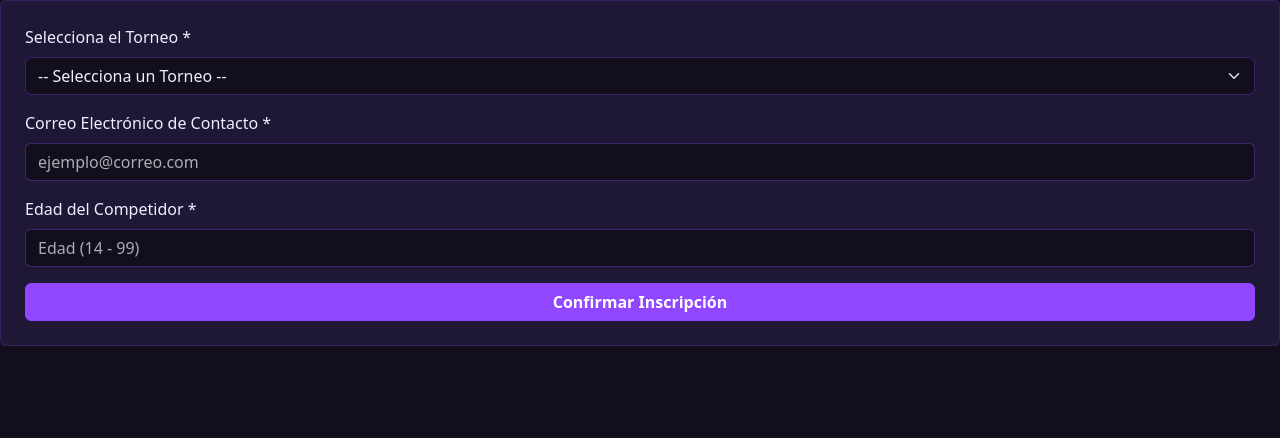
Test case: FormularioInscripcion › muestra error de edad fuera de rango
Type "10" into the number field labelled "Edad del Competidor *" at (640, 248), box [25,229,1255,267]
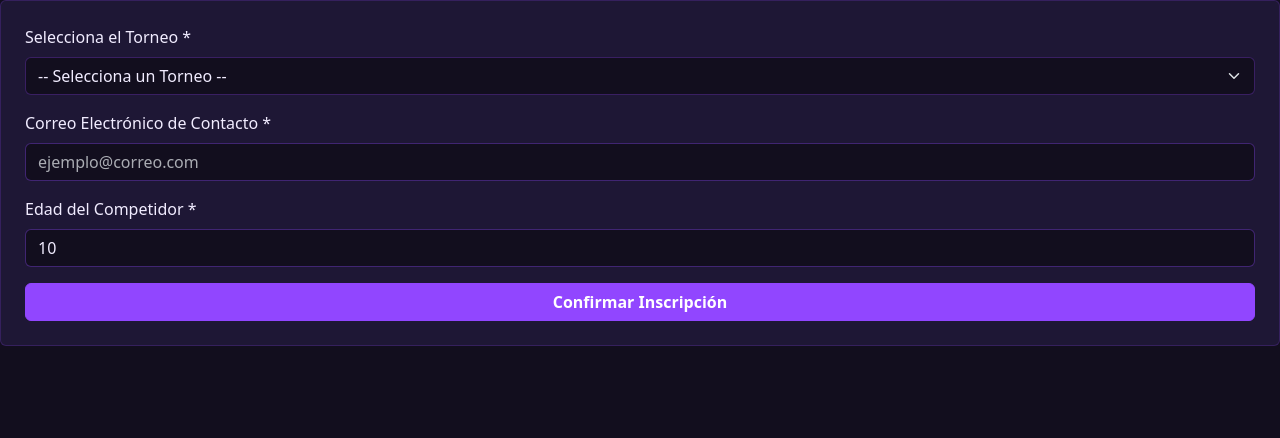
Click the button "Confirmar Inscripción" at (640, 302), box [25,283,1255,321]
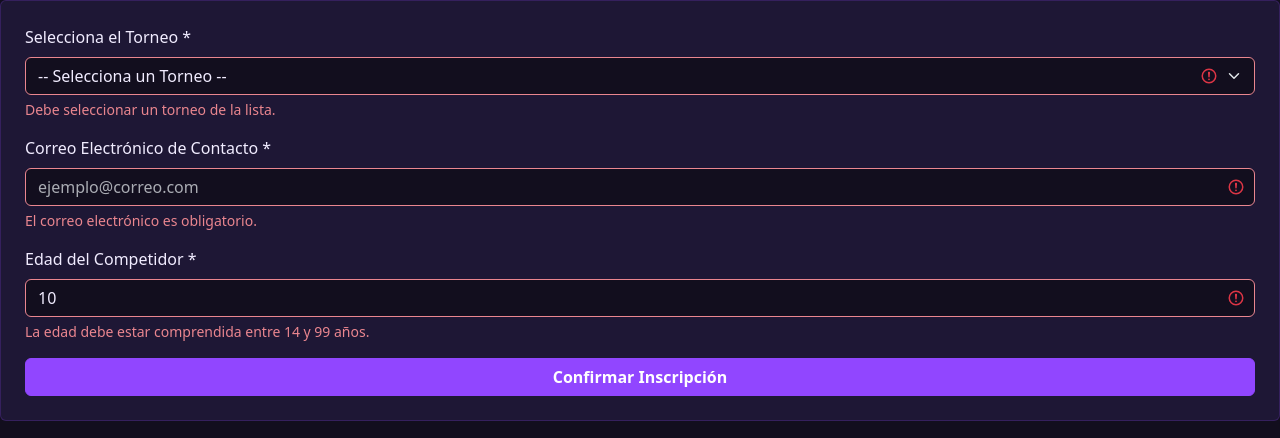
Now the text "La edad debe estar comprendida entre 14 y 99 años." is shown, box [25,322,370,341]
